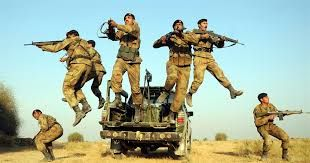gun: (197, 24, 247, 52), (20, 32, 65, 57), (254, 101, 305, 120), (101, 13, 118, 43), (166, 20, 187, 42)
uniform: (190, 16, 237, 105), (105, 10, 149, 105), (159, 18, 192, 121), (248, 84, 292, 153), (59, 26, 90, 122), (80, 35, 105, 98), (33, 107, 61, 160)
